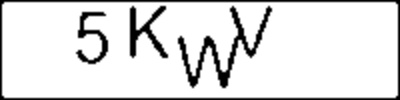5: (75, 9, 113, 67)
K: (127, 2, 175, 62)
V: (228, 3, 276, 58)
W: (174, 32, 243, 92)
